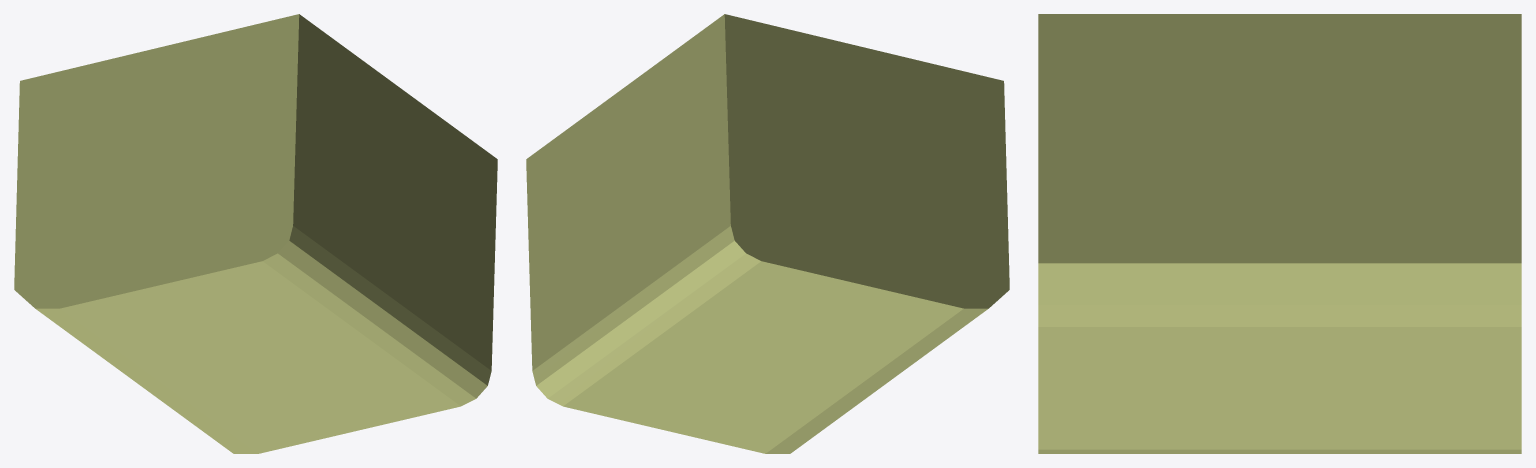
3 views of the same model, side by side, from view 1: azimuth 30°, elevation 25°; view 2: azimuth 150°, elevation 25°; view 3: azimuth 270°, elevation 25° (orthographic). The views are drawn at different scales.
Parts seen in each view (by area): view 1: 0_0_3_1_3_2_3_2_1_1; view 2: 0_0_3_1_3_2_3_2_1_1; view 3: 0_0_3_1_3_2_3_2_1_1.
Boxes of the visible parts, x1,y1,x2,y2 form: 0_0_3_1_3_2_3_2_1_1: (14,14,497,453); 0_0_3_1_3_2_3_2_1_1: (526,14,1009,453); 0_0_3_1_3_2_3_2_1_1: (1038,14,1521,453).
Size of the model in its own units: 7.46 by 5.99 by 9.
